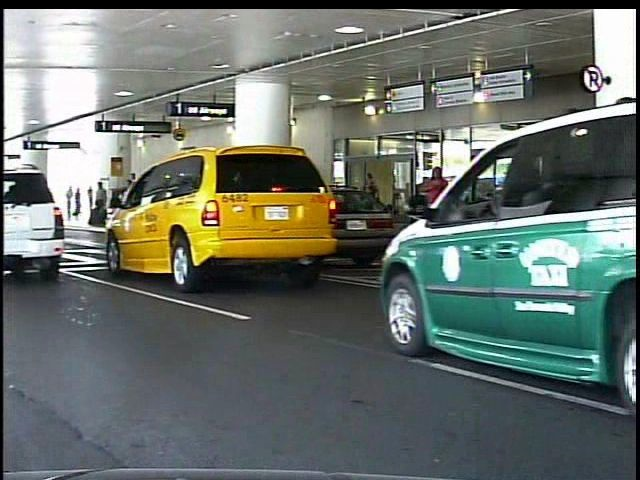person: (425, 165, 458, 251), (362, 169, 385, 227), (97, 179, 114, 229), (76, 185, 87, 225)
